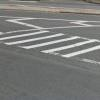Crosswalk: (3, 23, 100, 69)
